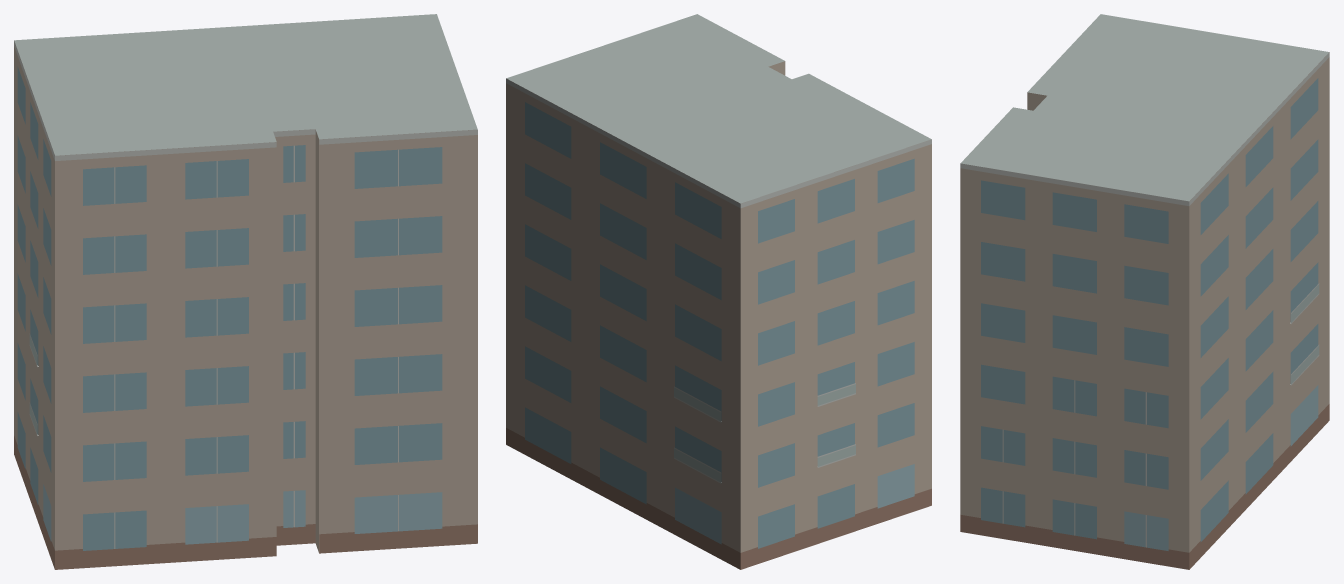
File: survey-upis-32754566.glb
3 views of the same model, side by side, from view 1: azimuth 30°, elevation 25°; view 2: azimuth 150°, elevation 25°; view 3: azimuth 270°, elevation 25° (orthographic). The views are drawn at different scales.
Visible parts, largest first — view 1: survey-upis-32754566.tmp; view 2: survey-upis-32754566.tmp; view 3: survey-upis-32754566.tmp.
Boxes of the visible parts, x1,y1,x2,y2 form: survey-upis-32754566.tmp: (14, 14, 477, 569); survey-upis-32754566.tmp: (506, 14, 931, 569); survey-upis-32754566.tmp: (960, 14, 1329, 569).
Size of the model in its own units: 20.35 by 18.65 by 16.94.
